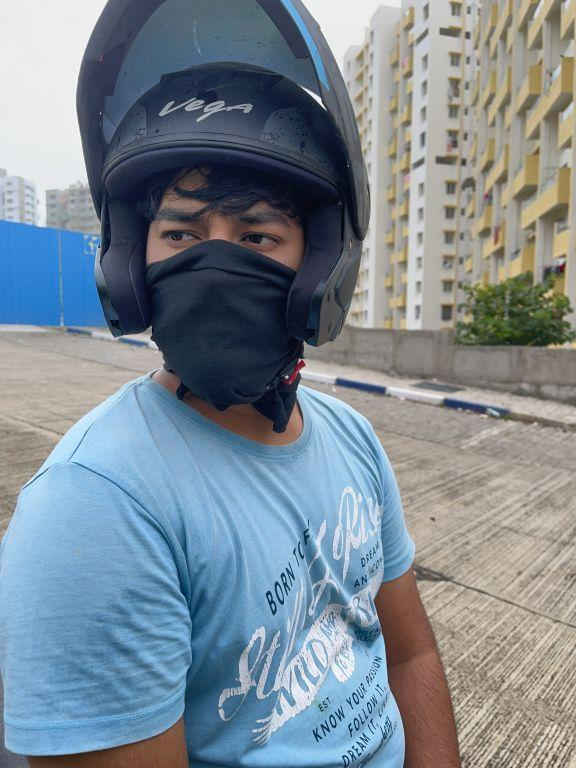helmet: (59, 4, 378, 409)
